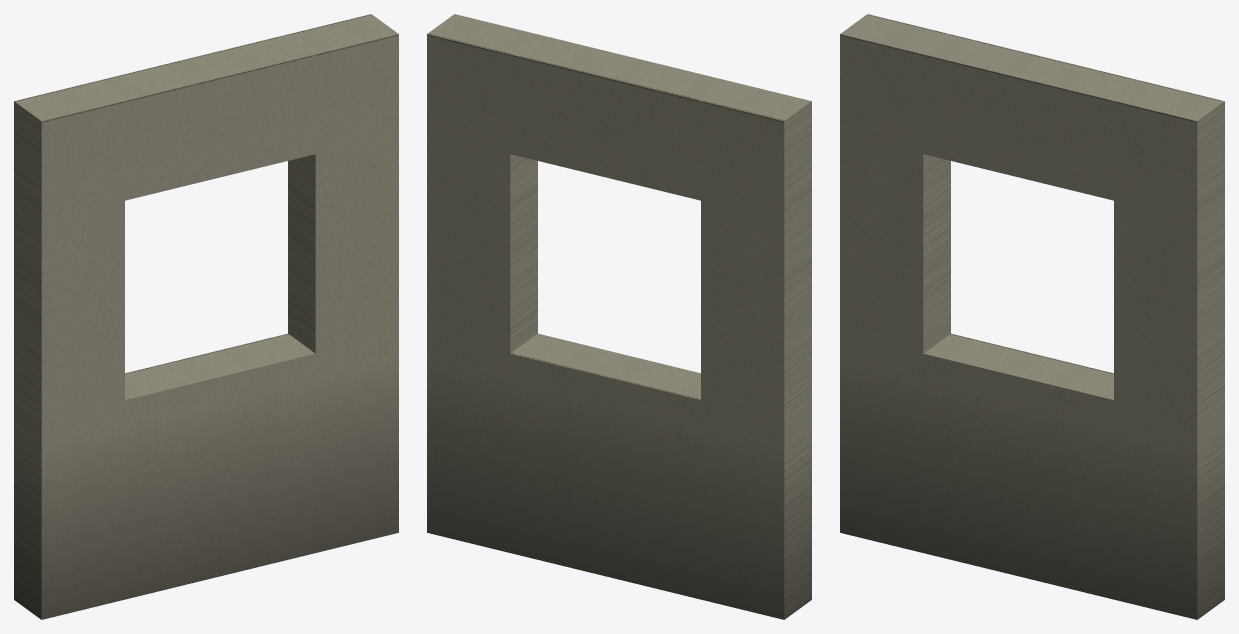
The model's file is wall_window.glb.
3 renders of one model, left to right at view 1: azimuth 30°, elevation 25°; view 2: azimuth 150°, elevation 25°; view 3: azimuth 330°, elevation 25°, orthographic.
Parts seen in each view (by area): view 1: wall_window-col; view 2: wall_window-col; view 3: wall_window-col.
Boxes of the visible parts, x1,y1,x2,y2 form: wall_window-col: (14,14,398,619); wall_window-col: (427,14,811,619); wall_window-col: (840,14,1224,619).
Bounding box in the file's own units: 1.5 × 2 × 0.2.
Materials: 1 (1 with a texture image).
